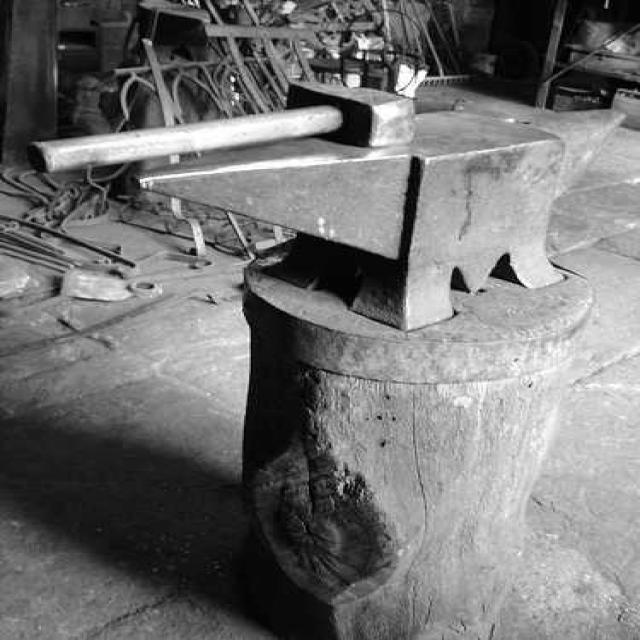hammer: (29, 84, 414, 176)
